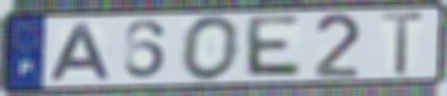2: (314, 11, 363, 79)
6: (123, 19, 169, 82)
A: (47, 21, 115, 82)
E: (241, 13, 305, 79)
O: (179, 14, 243, 84)
T: (378, 10, 428, 78)
